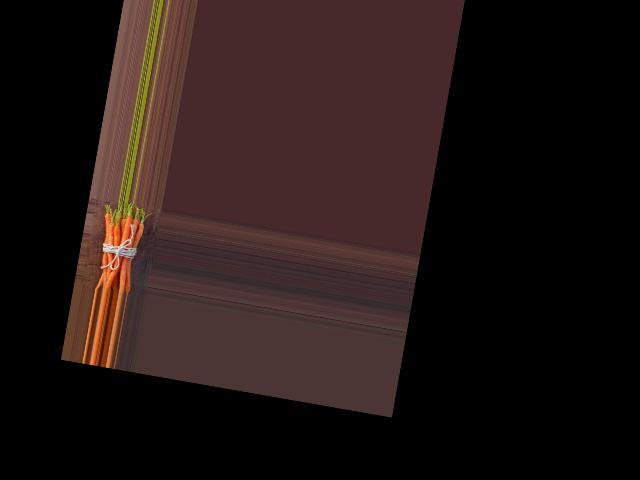carrot: (124, 214, 148, 294)
